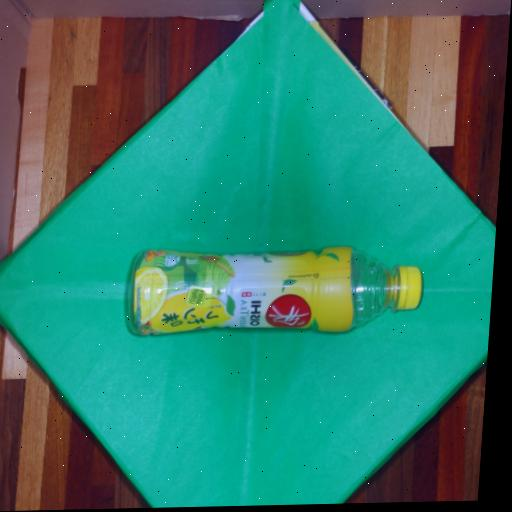bottle: (116, 227, 436, 358)
